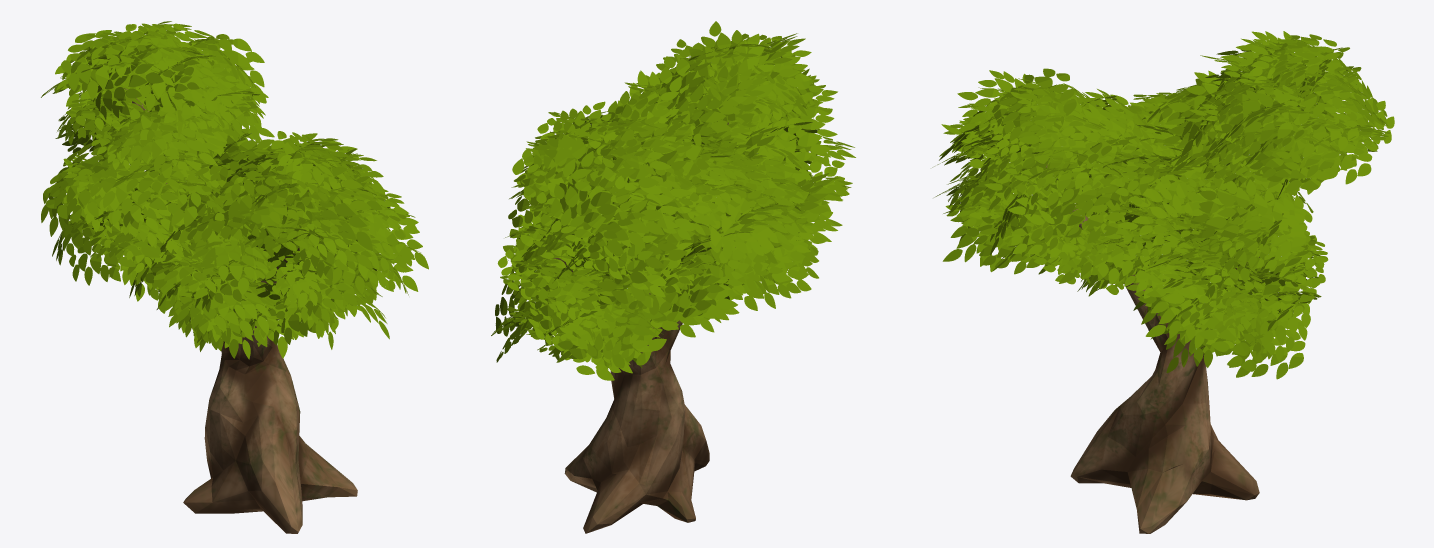
Rendered from tree_collection2.fbx.
3 views of the same model, side by side, from view 1: azimuth 30°, elevation 25°; view 2: azimuth 150°, elevation 25°; view 3: azimuth 270°, elevation 25° (orthographic). The views are drawn at different scales.
Visible parts, largest first — view 1: l2; view 2: l2; view 3: l2.
Part boxes in pixels (box(x1,y1,x2,y2)): l2: box(41, 21, 428, 533); l2: box(491, 21, 855, 533); l2: box(932, 31, 1394, 533).
Size of the model in its own units: 410 by 531 by 551.
